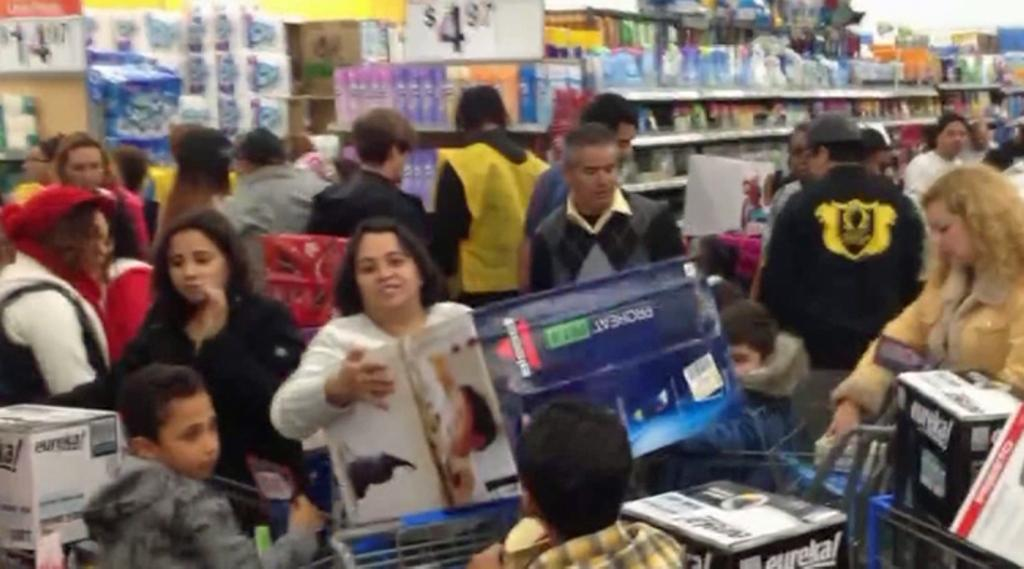face: (155, 391, 224, 482), (354, 232, 418, 314), (167, 230, 224, 304), (926, 200, 974, 267), (74, 212, 110, 280), (713, 339, 761, 389), (580, 145, 617, 209), (68, 150, 104, 196), (607, 121, 634, 173), (793, 135, 818, 177), (807, 137, 832, 177), (389, 133, 408, 185), (945, 122, 963, 155), (871, 147, 890, 174), (239, 150, 251, 181)
